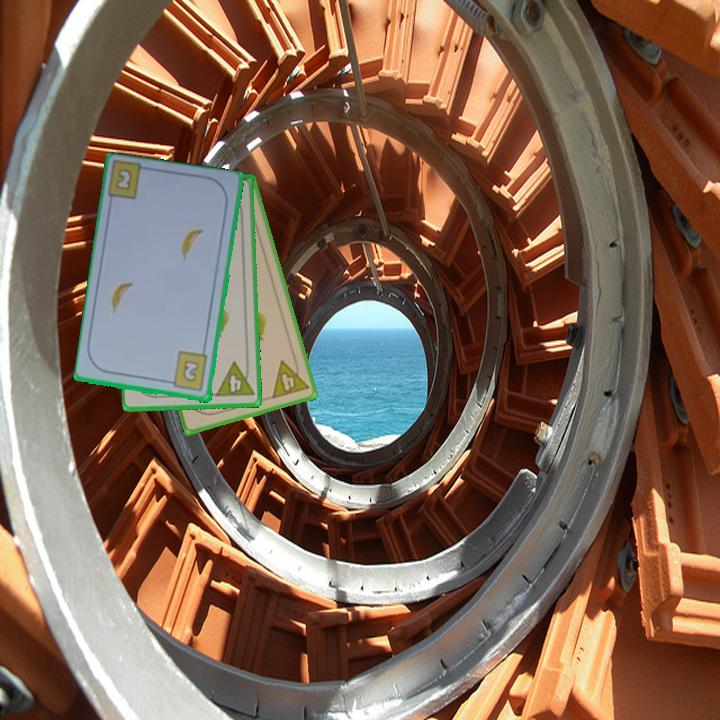2b: (164, 349, 211, 394), (114, 167, 134, 191)
4p: (268, 354, 312, 402), (212, 358, 257, 400)
